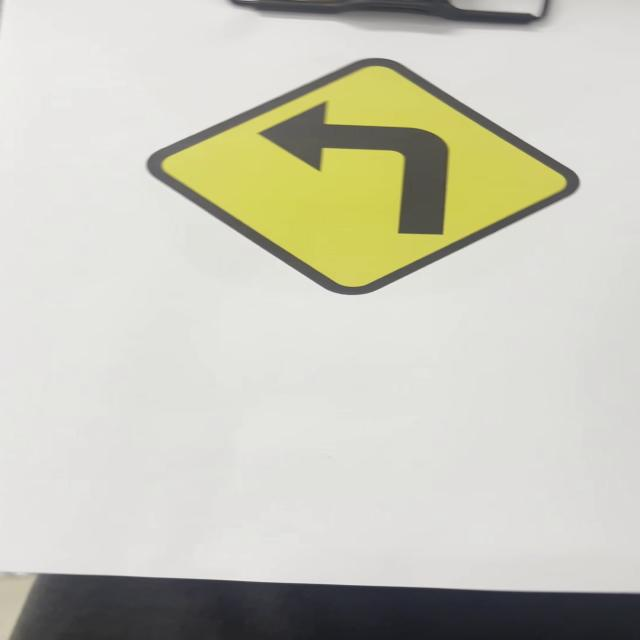left: (146, 59, 582, 297)
